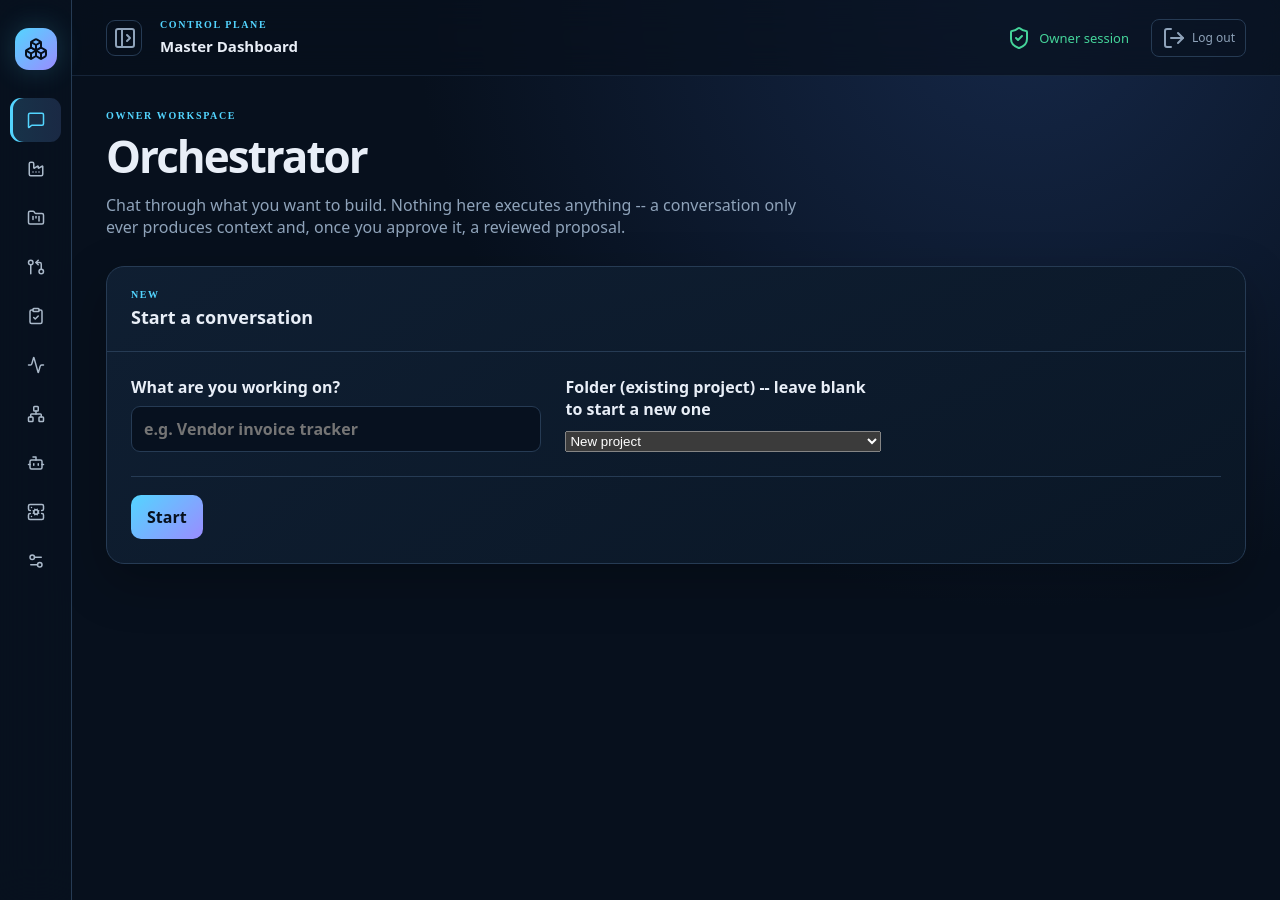
Test: dashboard › keeps following an active reply when Stop fails
Click the link named "Chat" at (36, 120), box [10, 98, 61, 142]
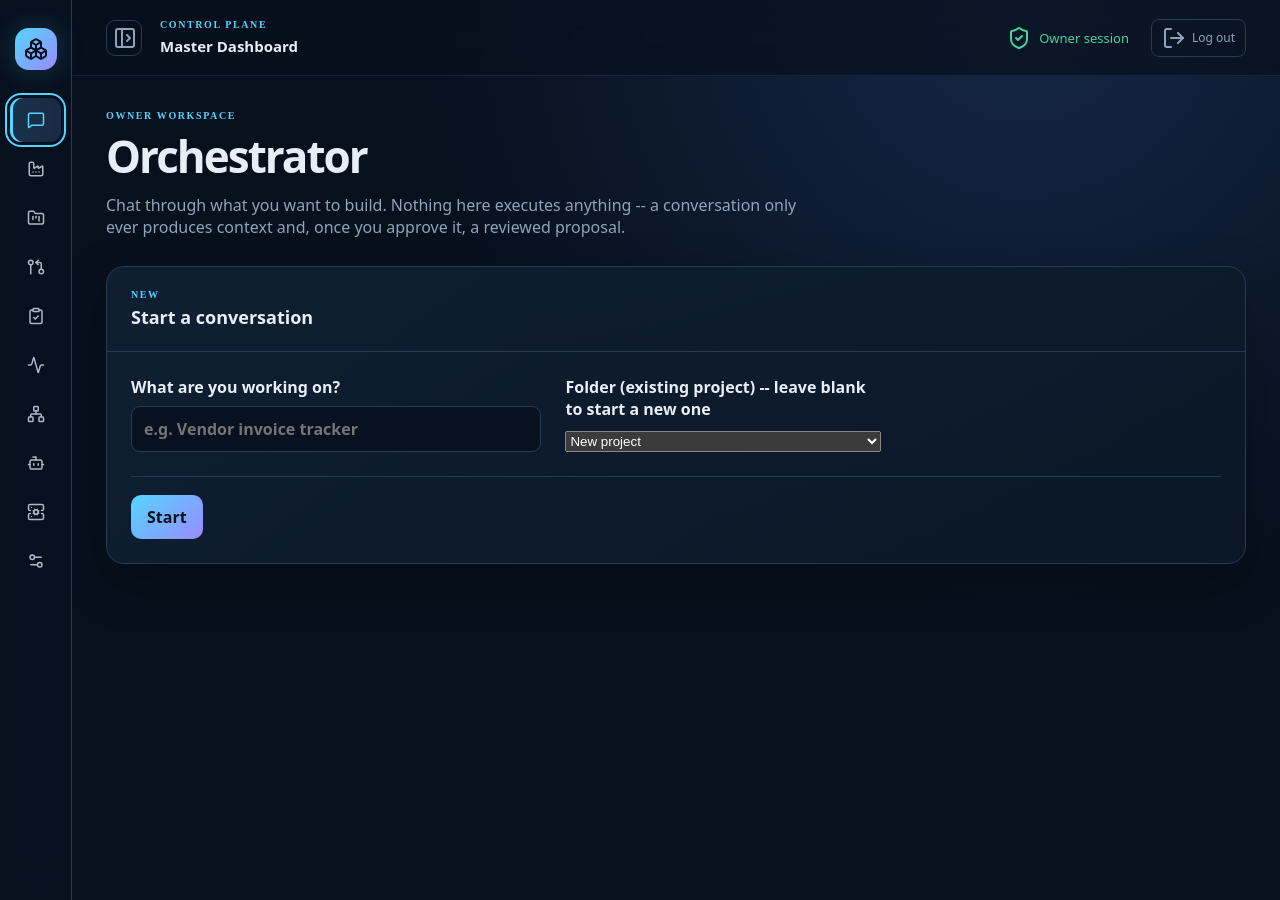
Type "Vendor invoice tracker" into the field named "Conversation title" at (336, 429), box [131, 406, 542, 452]
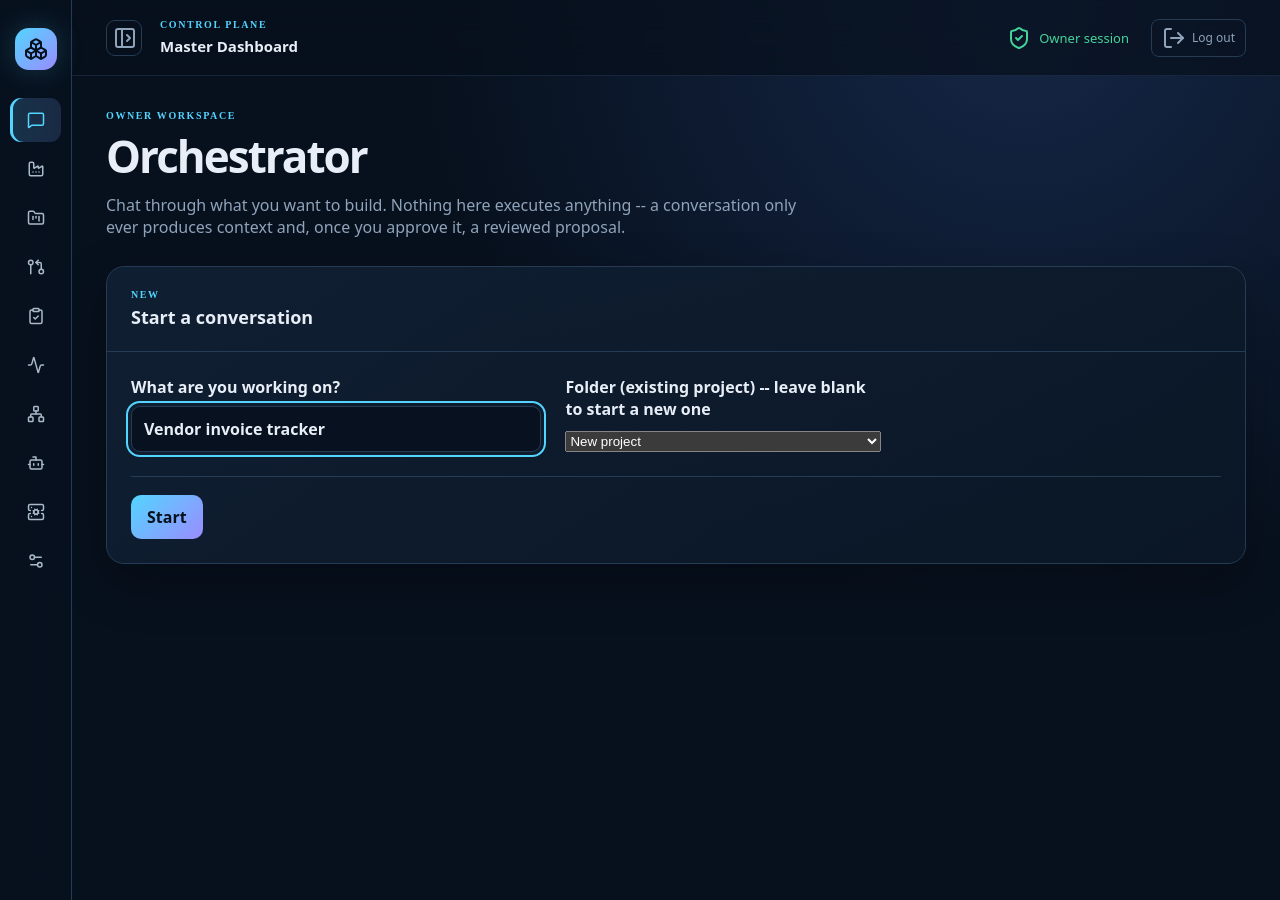
Click the button "Start" at (167, 517), box [131, 495, 203, 539]
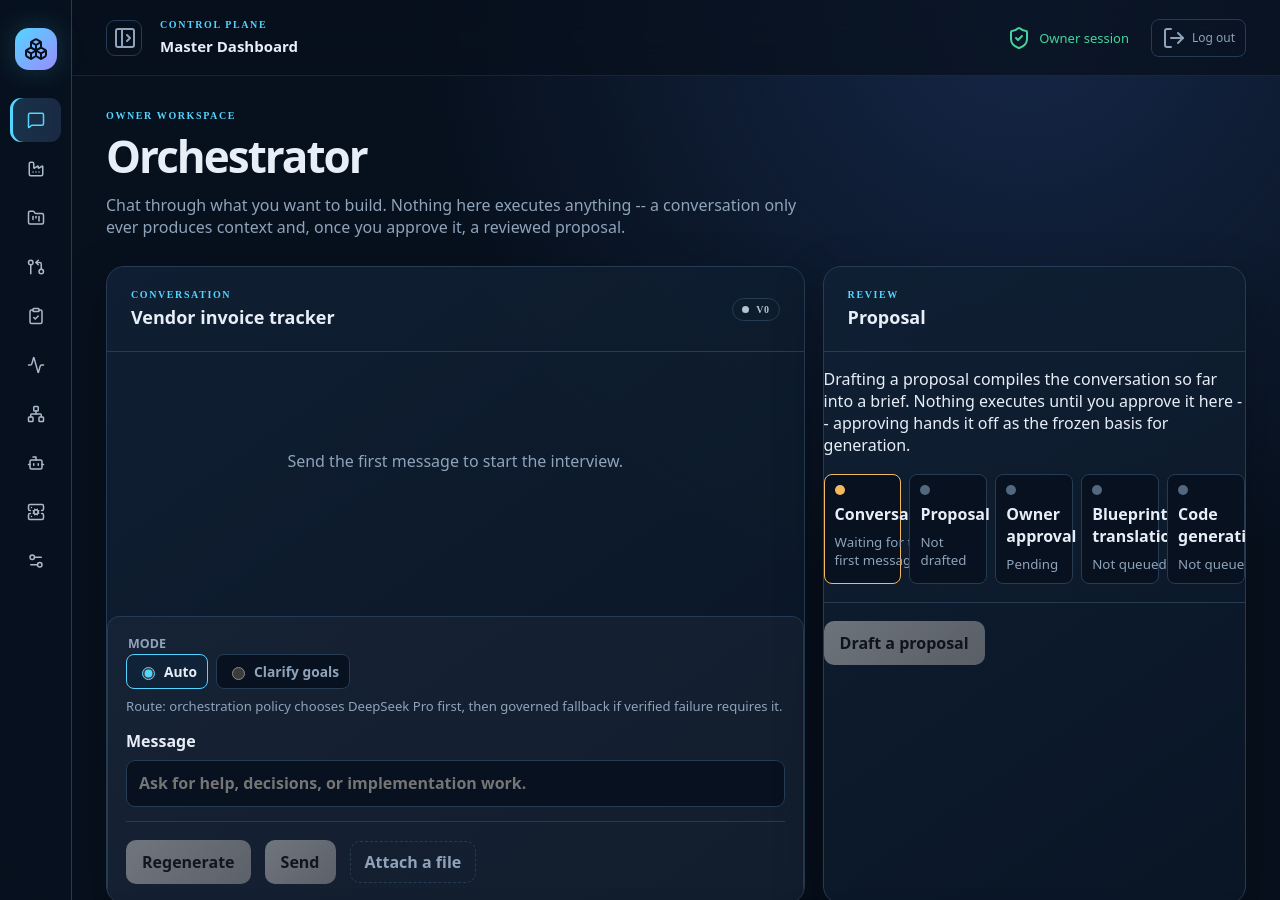
Type "Still running" into the text box labelled "Message" at (455, 784), box [126, 760, 785, 807]
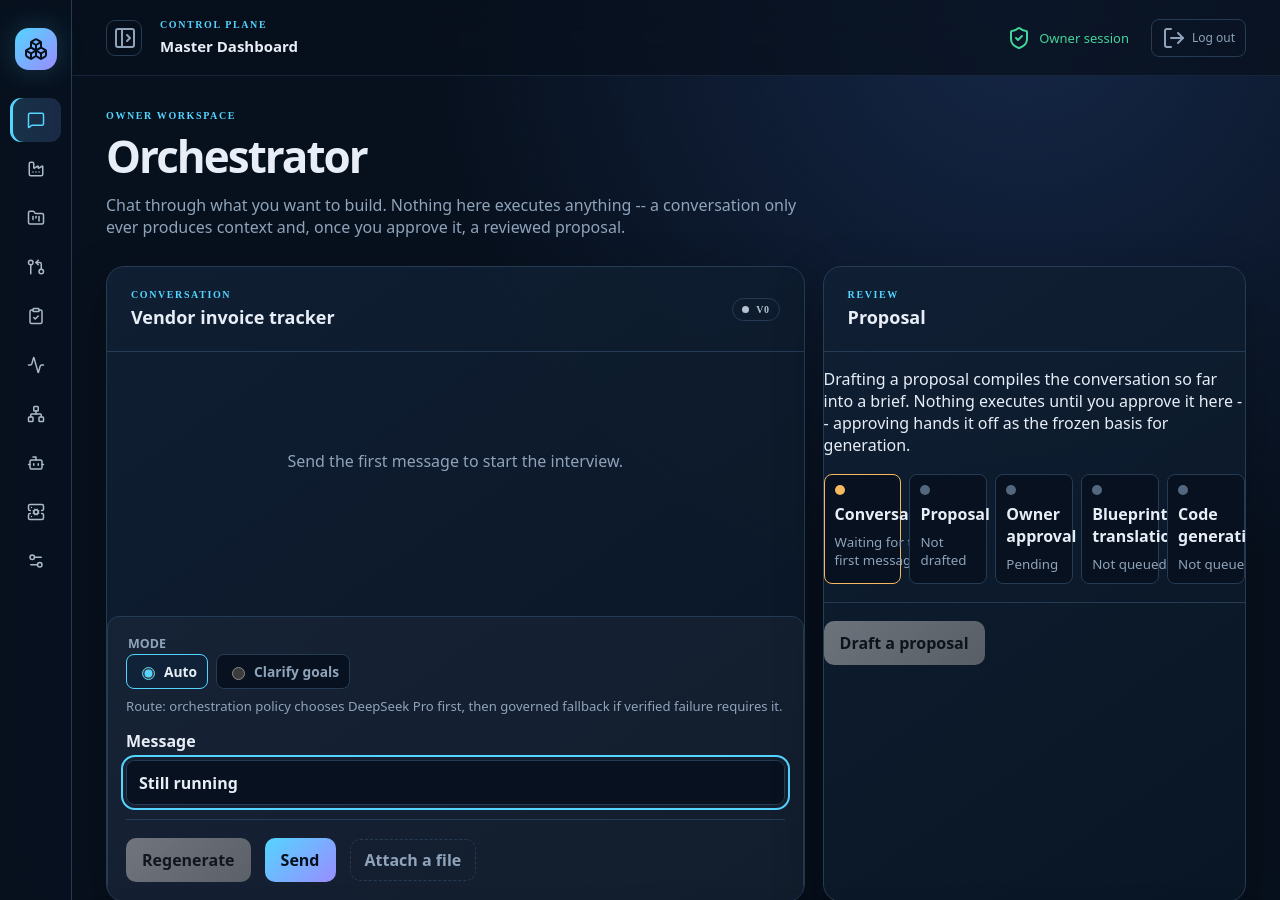
Click the button "Send" at (300, 860), box [265, 838, 336, 882]
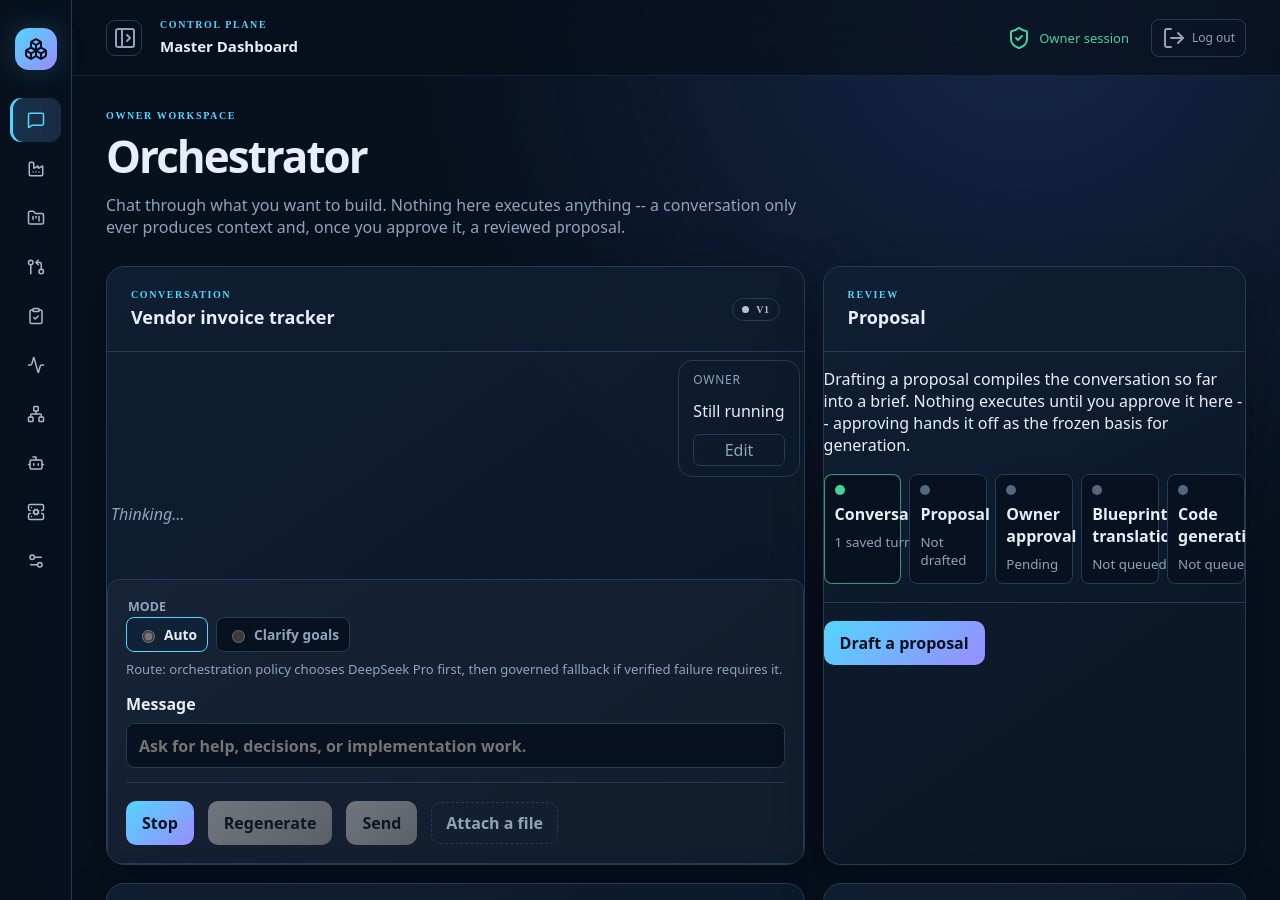
Check: the button "Send" is disabled, box [346, 801, 417, 845]
Click the button "Stop" at (160, 823), box [126, 801, 194, 845]
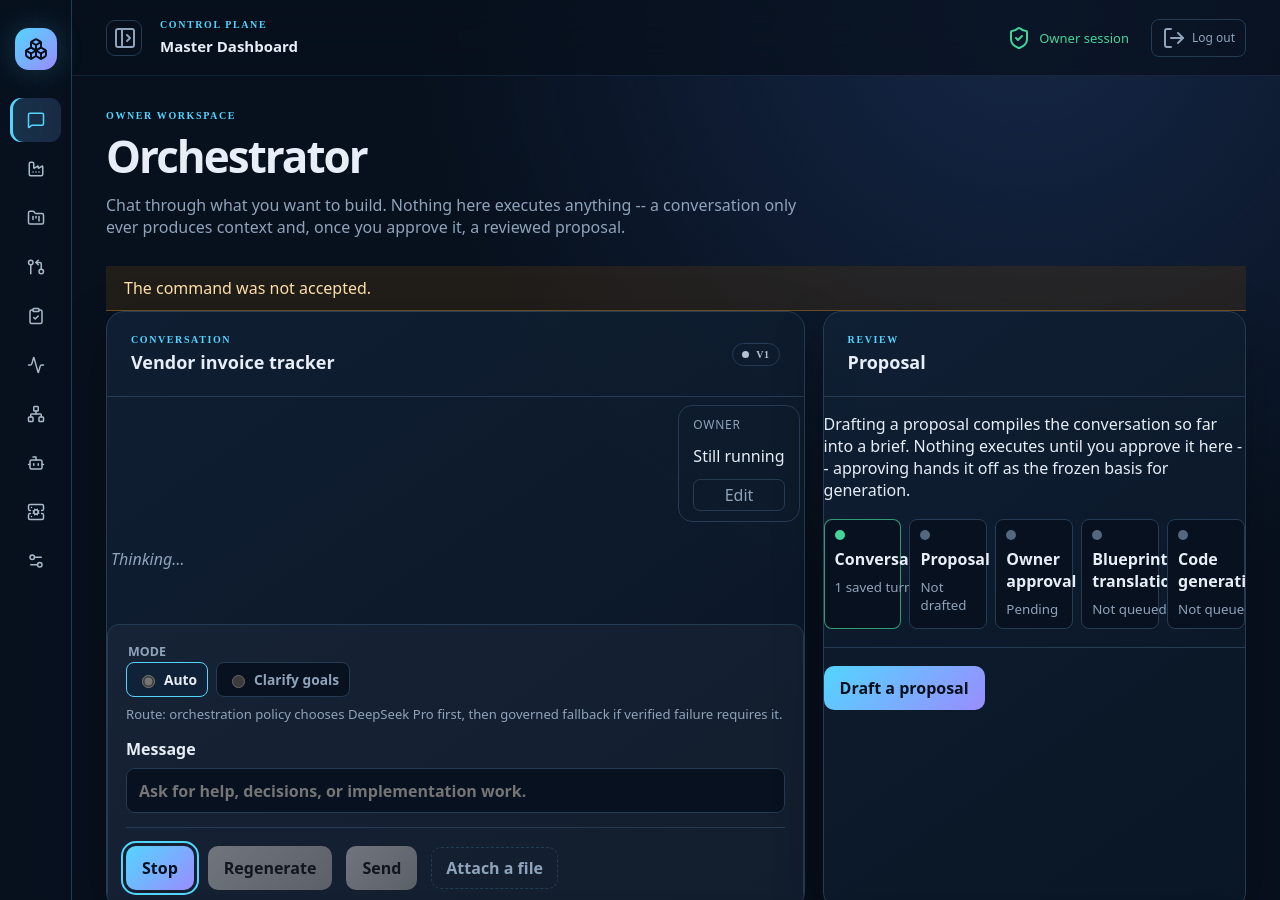
Check: the button "Stop" is shown, box [126, 846, 194, 890]
Check: the button "Send" is disabled, box [346, 846, 417, 890]
Check: the message reads "The command was not accepted.", box [124, 277, 371, 299]
